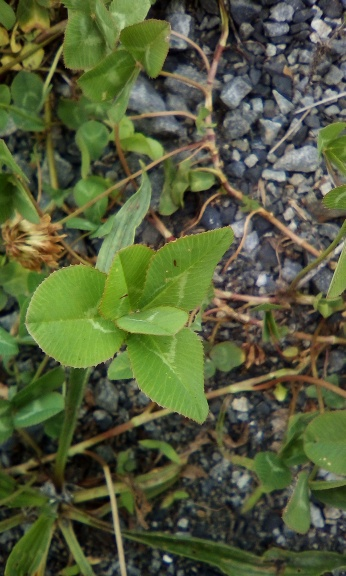4leaf: (23, 223, 236, 425)
